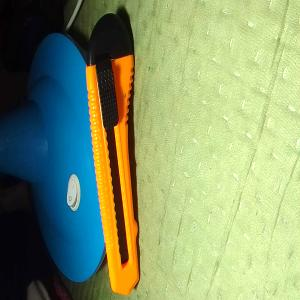estilete: (86, 11, 140, 296)
